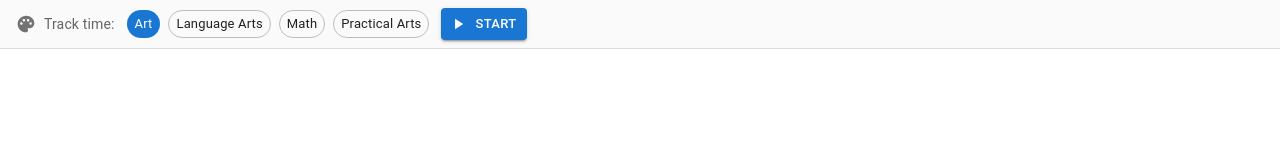
Test case: CreativeTimer — the hours row follows the session (UX-327) › says nothing while the header is still on the session’s own child
Click the button "Start": coordinates (484, 24) [441,8,527,40]
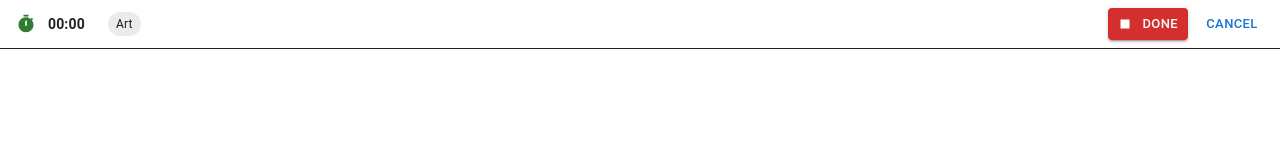
Now the button "Done" is shown, box [1108,8,1188,40]
